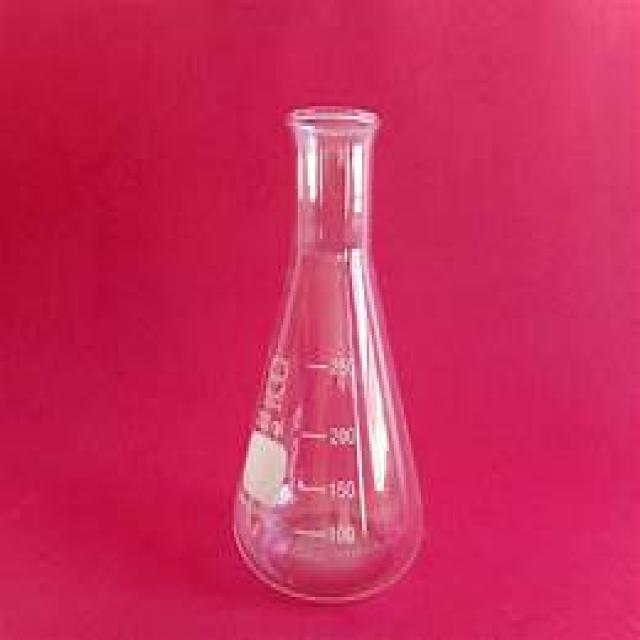Titrarion: (225, 99, 443, 609)
